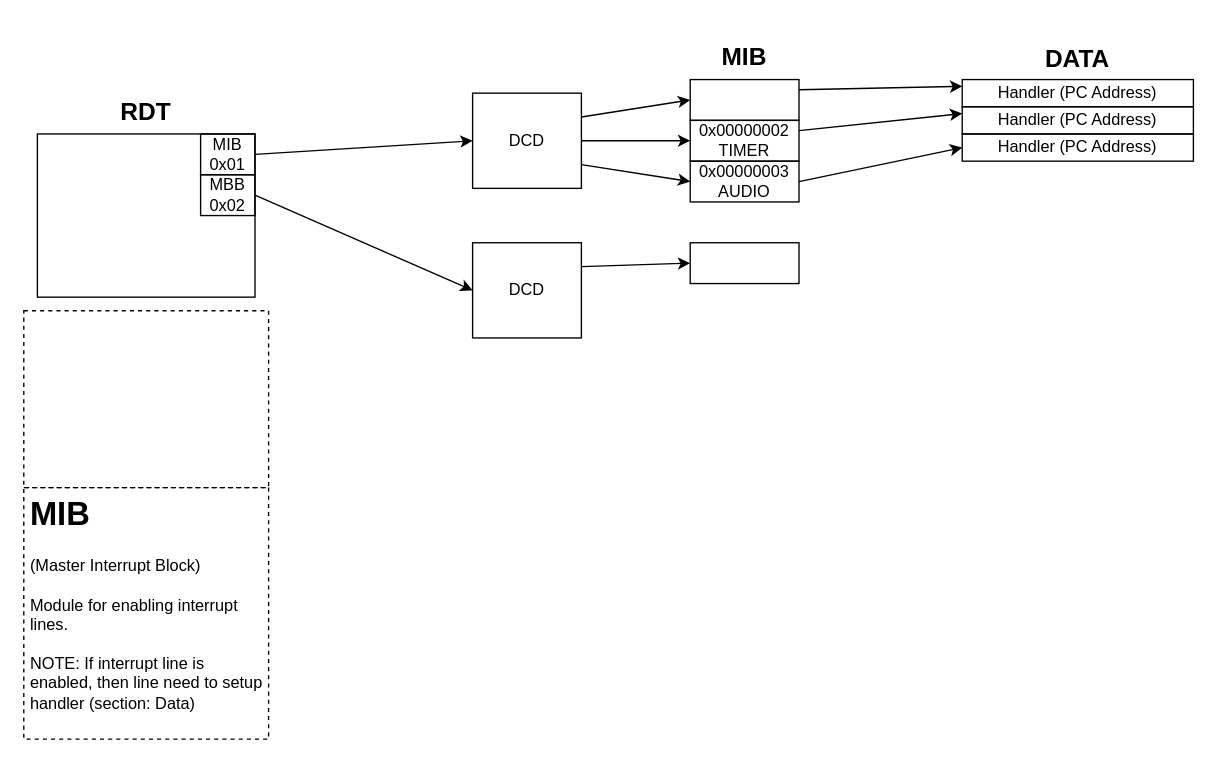
This 1217x763 diagram has some shape labels left out. The box of each missing label's shape, as (x1, y1, x2, y2) in pixels:
0x00000001 GPIO: (689, 241, 799, 284)
0x00000001 UART: (689, 78, 799, 120)
MMCU (Memory-Mapped Control Units) Module for controlling sections.: (22, 309, 269, 488)
